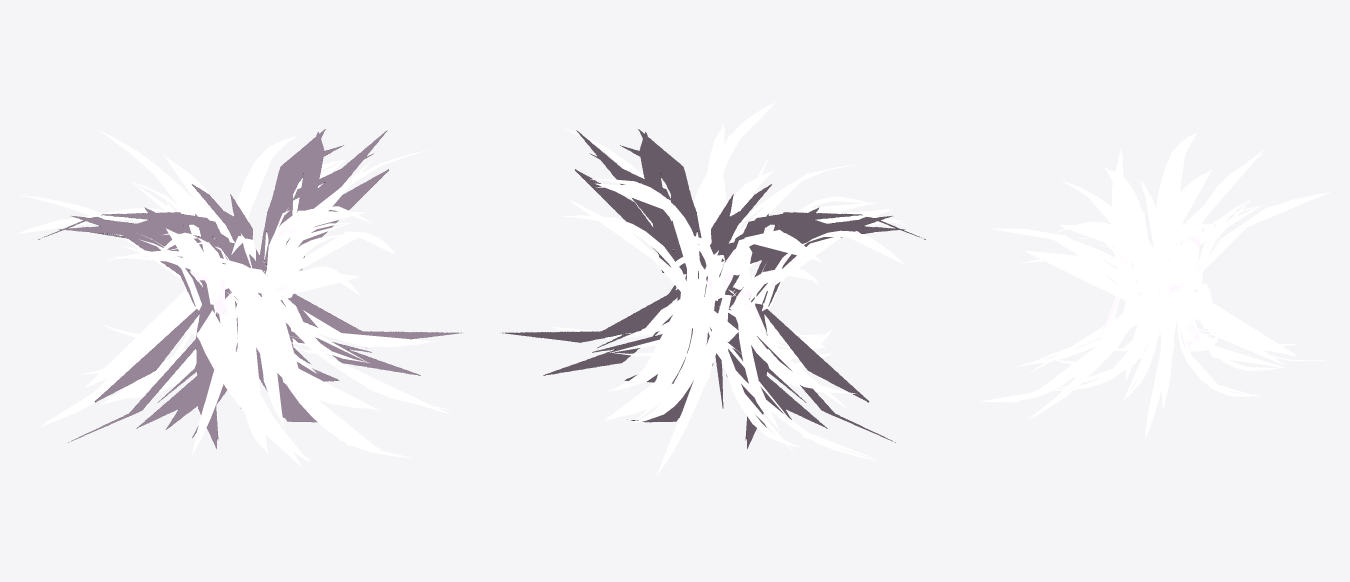
The model's file is GrasslogModels.fbx.
3 views of the same model, side by side, from view 1: azimuth 30°, elevation 25°; view 2: azimuth 150°, elevation 25°; view 3: azimuth 270°, elevation 25° (orthographic). The views are drawn at different scales.
Parts seen in each view (by area): view 1: MASH1_ReproMesh47.001, lowestgrassplane, MASH1_ReproMesh47; view 2: lowestgrassplane, MASH1_ReproMesh47, MASH1_ReproMesh47.001; view 3: MASH1_ReproMesh47.001, MASH1_ReproMesh47.
Part boxes in pixels (x1,y1,x2,y2): MASH1_ReproMesh47.001: (18,133,450,467); lowestgrassplane: (38,129,461,448); MASH1_ReproMesh47: (17,129,453,461); lowestgrassplane: (502,129,925,448); MASH1_ReproMesh47: (549,102,905,475); MASH1_ReproMesh47.001: (549,103,903,459); MASH1_ReproMesh47.001: (980,133,1330,437); MASH1_ReproMesh47: (989,132,1332,439).
Bounding box in the file's own units: 87.82 × 81.95 × 71.85.
Materials: 2 (1 with a texture image).
